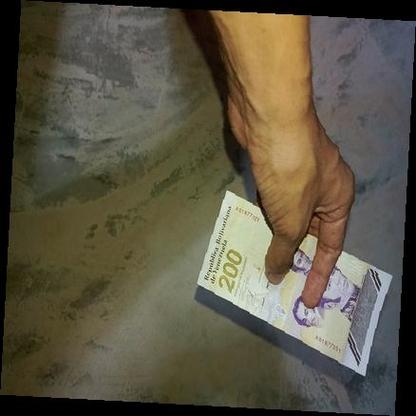two_hundred-front-vef: (195, 188, 393, 378)
